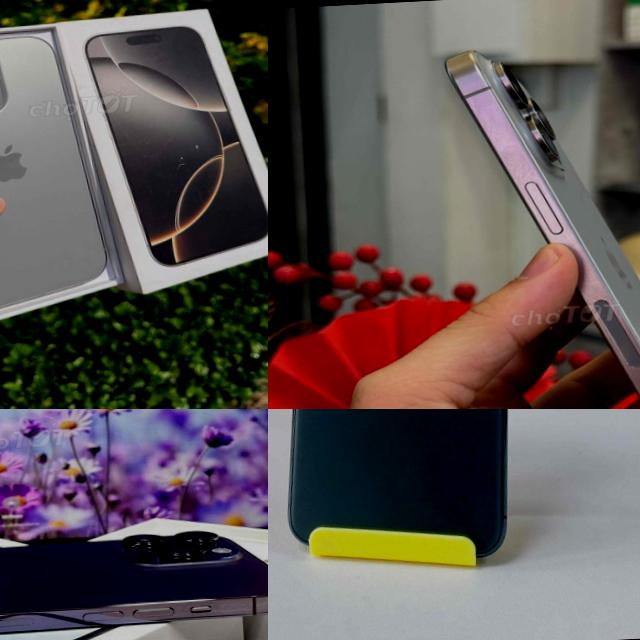gen_11: (268, 409, 537, 562)
gen_14: (0, 531, 268, 634)
gen_15: (431, 32, 640, 409)
gen_16: (0, 32, 106, 312)
